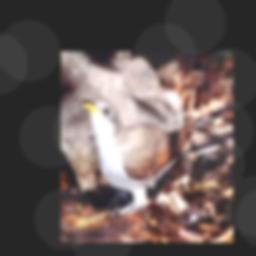Cuckoo: (79, 99, 232, 210)
